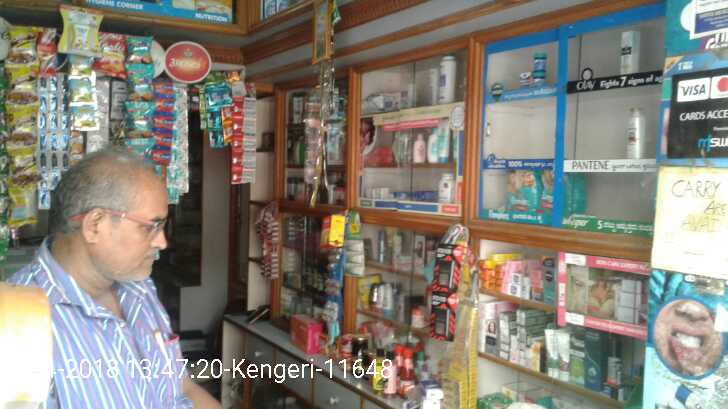vicks: (518, 50, 547, 89)
